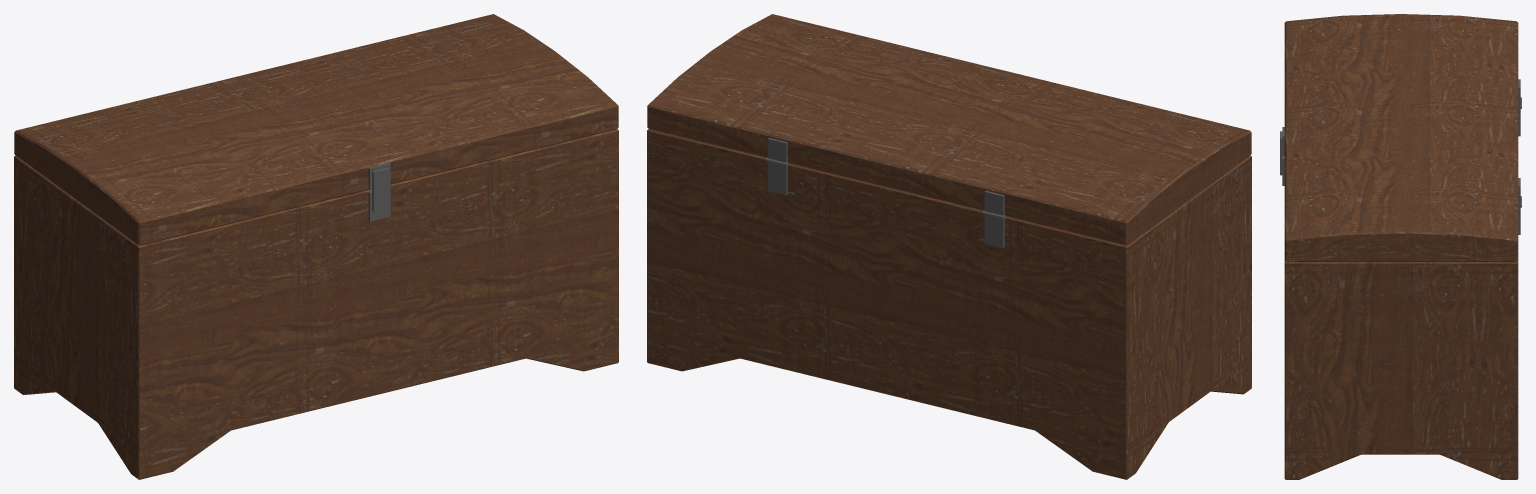
The model's file is sunduk_large.fbx.
The picture shows the model from 3 angles, left to right: view 1: azimuth 30°, elevation 25°; view 2: azimuth 150°, elevation 25°; view 3: azimuth 270°, elevation 25°; orthographic projection. The views are drawn at different scales.
Visible parts, largest first — view 1: sunduk_btm_geo, sunduk_top_geo; view 2: sunduk_btm_geo, sunduk_top_geo; view 3: sunduk_top_geo, sunduk_btm_geo.
Part boxes in pixels (x1=…): sunduk_btm_geo: x1=14, y1=129, x2=618, y2=479; sunduk_top_geo: x1=14, y1=14, x2=618, y2=245; sunduk_btm_geo: x1=647, y1=129, x2=1251, y2=479; sunduk_top_geo: x1=647, y1=14, x2=1251, y2=245; sunduk_top_geo: x1=1280, y1=14, x2=1520, y2=261; sunduk_btm_geo: x1=1282, y1=97, x2=1521, y2=479.
Bounding box in the file's own units: 11.95 × 6.33 × 5.58.
Materials: 2 (1 with a texture image).
